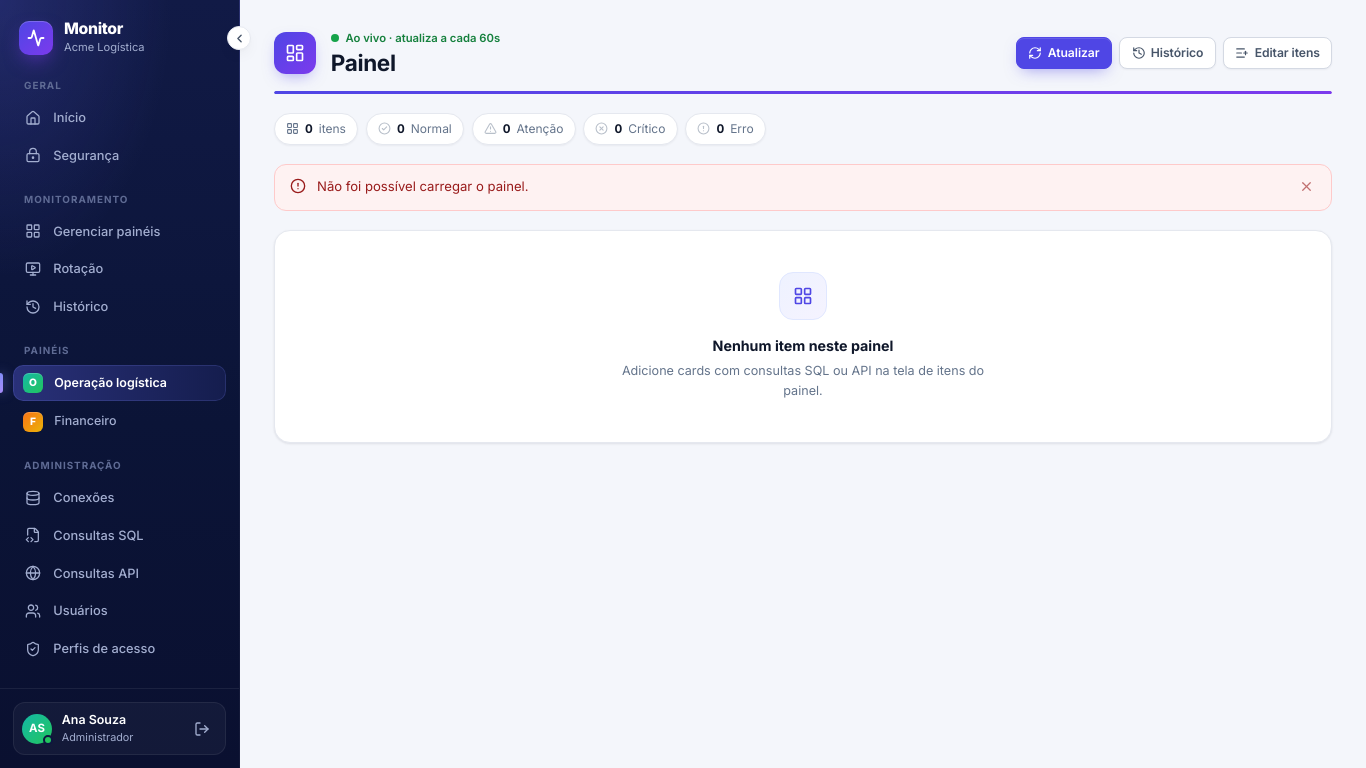
Test: Painel ao vivo › mostra erro quando a execução falha e painel sem itens
expect the message reads "Não foi possível carregar o painel.": met, box [317, 178, 529, 194]
expect the text "Nenhum item neste painel" is shown: met, box [712, 335, 893, 356]
Click the button named "Fechar aviso". click: (1307, 187)
box: [1297, 177, 1316, 196]
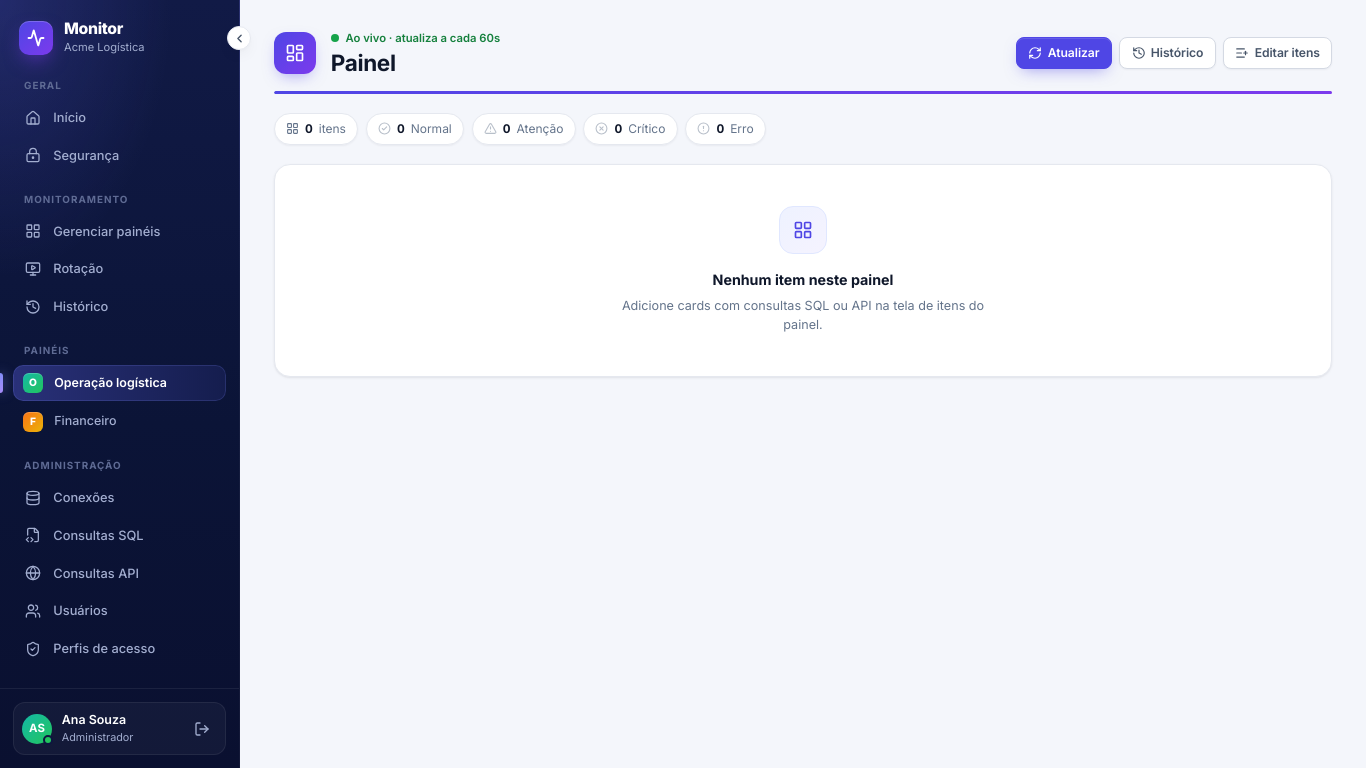
expect the message "Não foi possível carregar o painel." is gone: met
